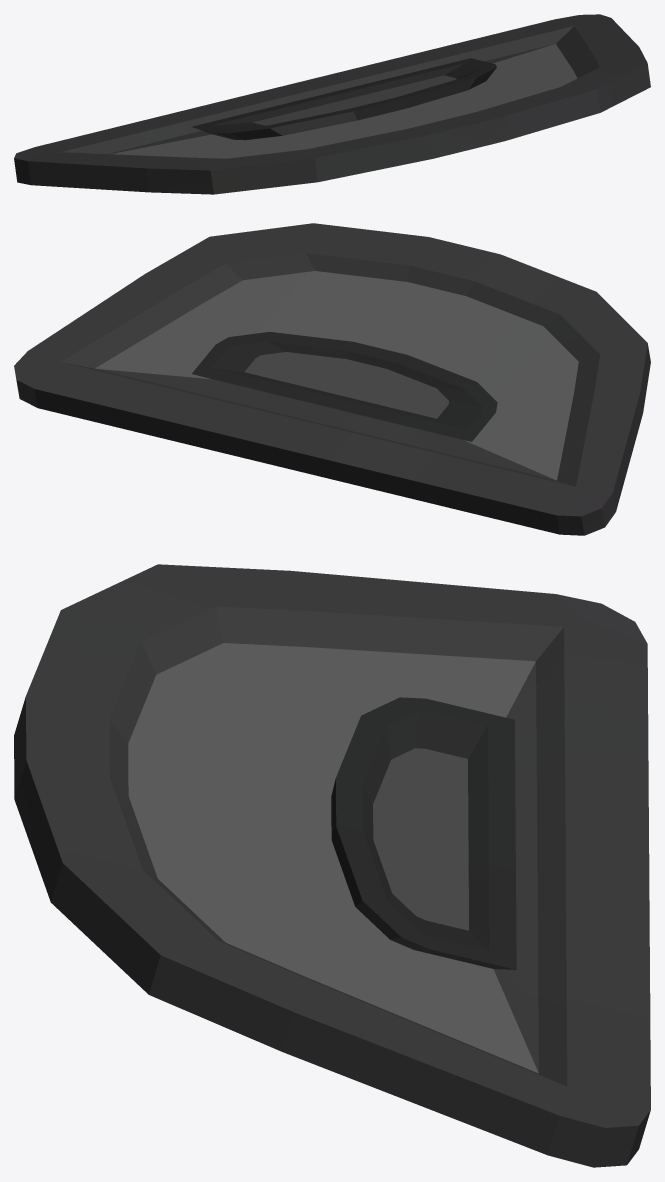
The model's file is carDesk.fbx.
The picture shows the model from 3 angles, top to bottom: view 1: azimuth 30°, elevation 25°; view 2: azimuth 150°, elevation 25°; view 3: azimuth 270°, elevation 25°; orthographic projection. The views are drawn at different scales.
Visible parts, largest first — view 1: Plane.009; view 2: Plane.009; view 3: Plane.009.
Boxes of the visible parts, bbox=[...] form: Plane.009: bbox=[14, 14, 650, 194]; Plane.009: bbox=[14, 223, 650, 535]; Plane.009: bbox=[14, 564, 650, 1167].
Size of the model in its own units: 20.51 by 3.45 by 10.53.
